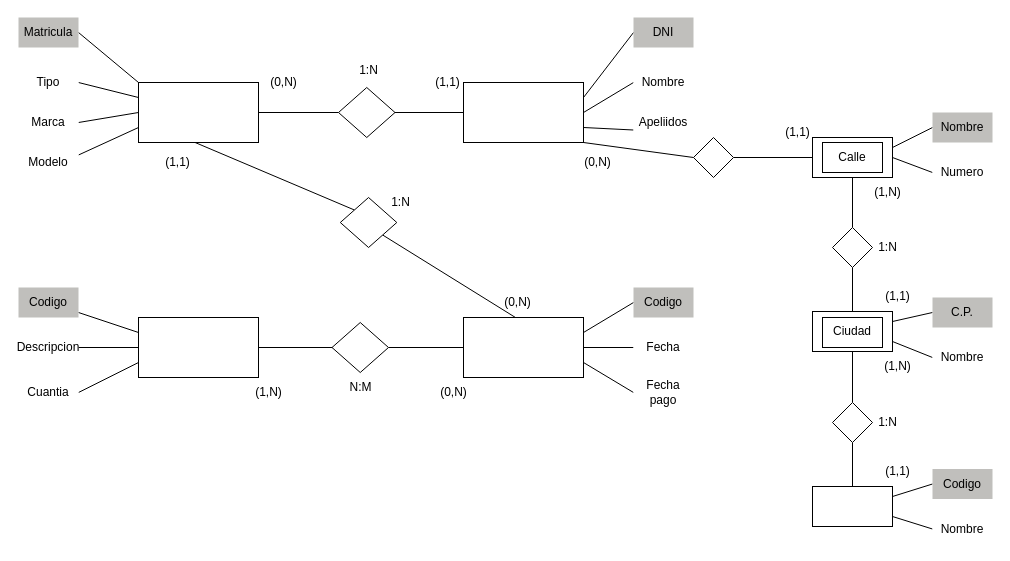
The diagram is 1010 pixels wide and 561 high, and some of its shapes have lost their labels. Each missing label, with the centre of its shape:
"Infraccion" belongs at [198,347].
"Multa" belongs at [523,347].
"Propietario" belongs at [523,112].
"Provincia" belongs at [852,506].
"Vehiculo" belongs at [198,112].
